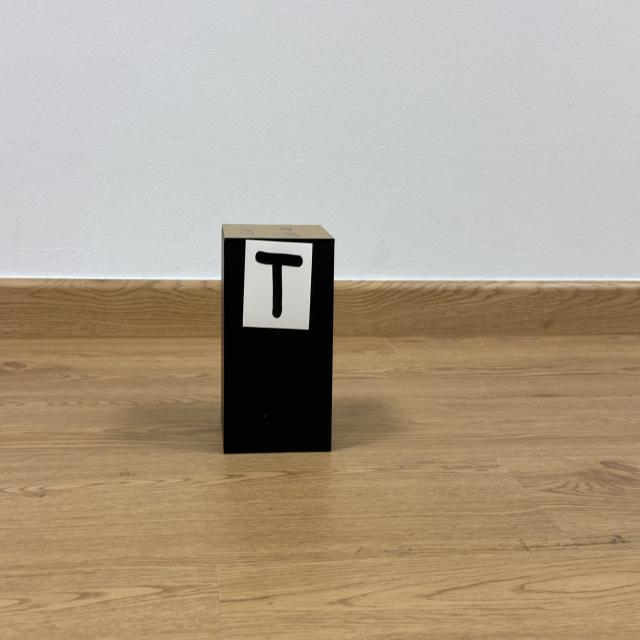T: (255, 252, 302, 318)
